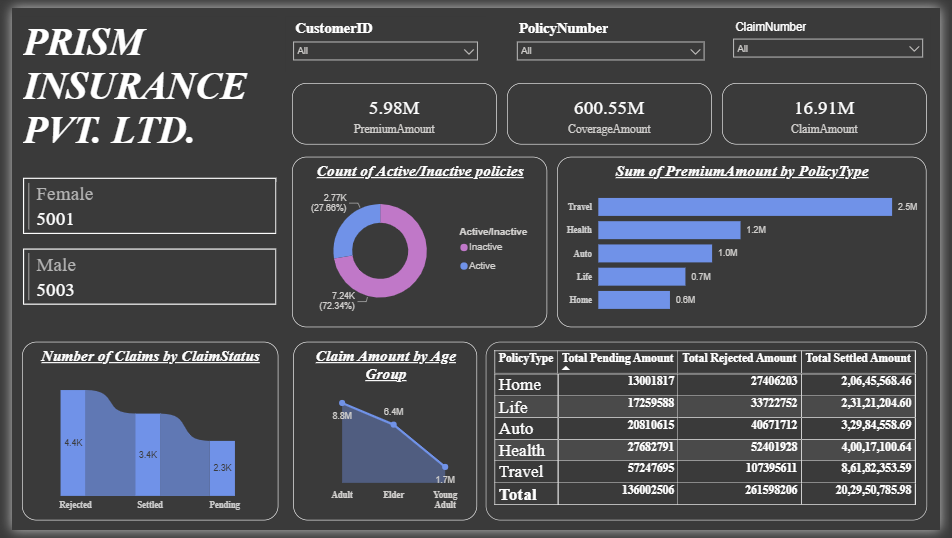

The page's visual inventory and layout, read from the dashboard file:
{"tool":"powerbi","page":{"name":"Page 1","canvas":[1280,720],"ordinal":0},"visuals":[{"type":"slicer","fields":{"Values":["InsuranceData.PolicyNumber"]},"box":[686.7,12.4,278.6,75],"z":0},{"type":"slicer","fields":{"Values":["InsuranceData.ClaimNumber"]},"box":[984,12.4,282.4,75],"z":1000},{"type":"slicer","fields":{"Values":["InsuranceData.CustomerID"]},"box":[378.2,12.4,274.9,75],"z":2000},{"type":"textbox","box":[10.8,12.2,355.4,193.2],"z":3000},{"type":"card","fields":{"Values":["Sum(InsuranceData.PremiumAmount)"]},"box":[386,102.7,282,85],"z":4000},{"type":"card","fields":{"Values":["Sum(InsuranceData.CoverageAmount)"]},"box":[682,102.7,282,85],"z":5000},{"type":"card","fields":{"Values":["Sum(InsuranceData.ClaimAmount)"]},"box":[979.1,103.1,282.2,85],"z":6000},{"type":"multiRowCard","fields":{"Values":["InsuranceData.Gender","CountNonNull(InsuranceData.Gender)"]},"box":[11,229.4,359.5,240],"z":7000},{"type":"ribbonChart","title":"Number of Claims by ClaimStatus","fields":{"Category":["InsuranceData.ClaimStatus"],"Y":["CountNonNull(InsuranceData.ClaimStatus)"]},"box":[13.5,460.1,353.4,246.6],"z":8000},{"type":"clusteredBarChart","fields":{"Category":["InsuranceData.PolicyType"],"Y":["Sum(InsuranceData.PremiumAmount)"]},"box":[752.2,204.9,509.2,235.6],"z":9000},{"type":"lineChart","title":"Claim Amount by Age Group","fields":{"Category":["InsuranceData.Age Group"],"Y":["Sum(InsuranceData.ClaimAmount)"]},"box":[387.7,460.1,254,246.6],"z":10000},{"type":"donutChart","title":"Count of Active/Inactive policies","fields":{"Category":["InsuranceData.Active/Inactive"],"Y":["CountNonNull(InsuranceData.Active/Inactive)"]},"box":[386.5,204.9,352.1,235.6],"z":11000},{"type":"pivotTable","fields":{"Rows":["InsuranceData.PolicyType"],"Values":["Measure Table.Total Pending Amount","Measure Table.Total Rejected Amount","Measure Table.Total Settled Amount"]},"box":[652.8,460.1,608.6,246.6],"z":12000}]}

Visuals, with their boxes in screenshot pixels (x1, y1, x2, y2), scaled from the page's 1280x720 canvas onto the 952x538 screenshot:
slicer - InsuranceData.PolicyNumber: rect(511, 9, 718, 65)
slicer - InsuranceData.ClaimNumber: rect(732, 9, 942, 65)
slicer - InsuranceData.CustomerID: rect(281, 9, 486, 65)
textbox: rect(8, 9, 272, 153)
card - Sum(InsuranceData.PremiumAmount): rect(287, 77, 497, 140)
card - Sum(InsuranceData.CoverageAmount): rect(507, 77, 717, 140)
card - Sum(InsuranceData.ClaimAmount): rect(728, 77, 938, 141)
multiRowCard - InsuranceData.Gender x CountNonNull(InsuranceData.Gender): rect(8, 171, 276, 351)
"Number of Claims by ClaimStatus" ribbonChart: rect(10, 344, 273, 528)
clusteredBarChart - InsuranceData.PolicyType x Sum(InsuranceData.PremiumAmount): rect(559, 153, 938, 329)
"Claim Amount by Age Group" lineChart: rect(288, 344, 477, 528)
"Count of Active/Inactive policies" donutChart: rect(287, 153, 549, 329)
pivotTable - InsuranceData.PolicyType x Measure Table.Total Pending Amount: rect(486, 344, 938, 528)
